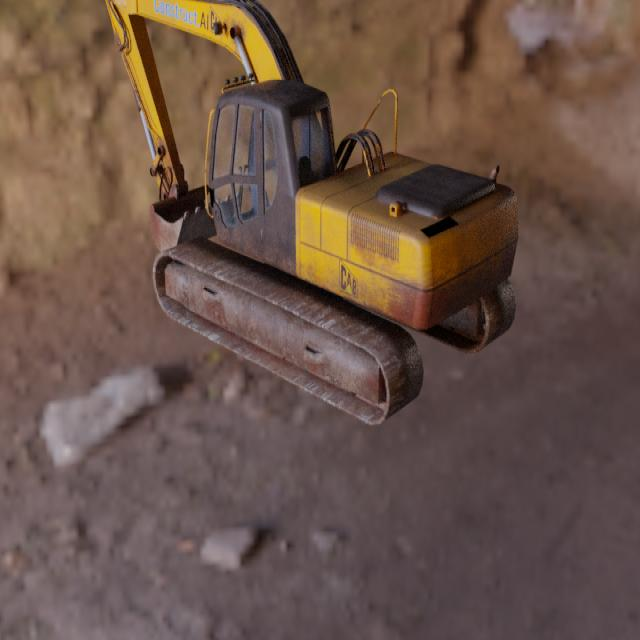excavator: (105, 0, 519, 427)
